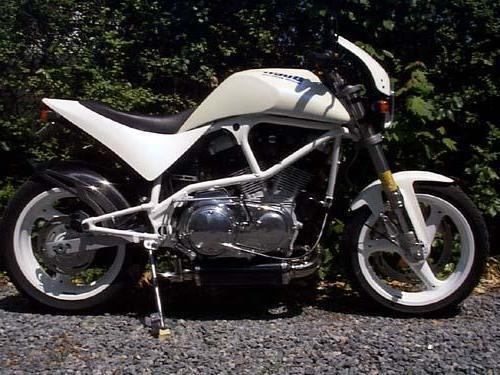motorcycle: (2, 35, 497, 325)
